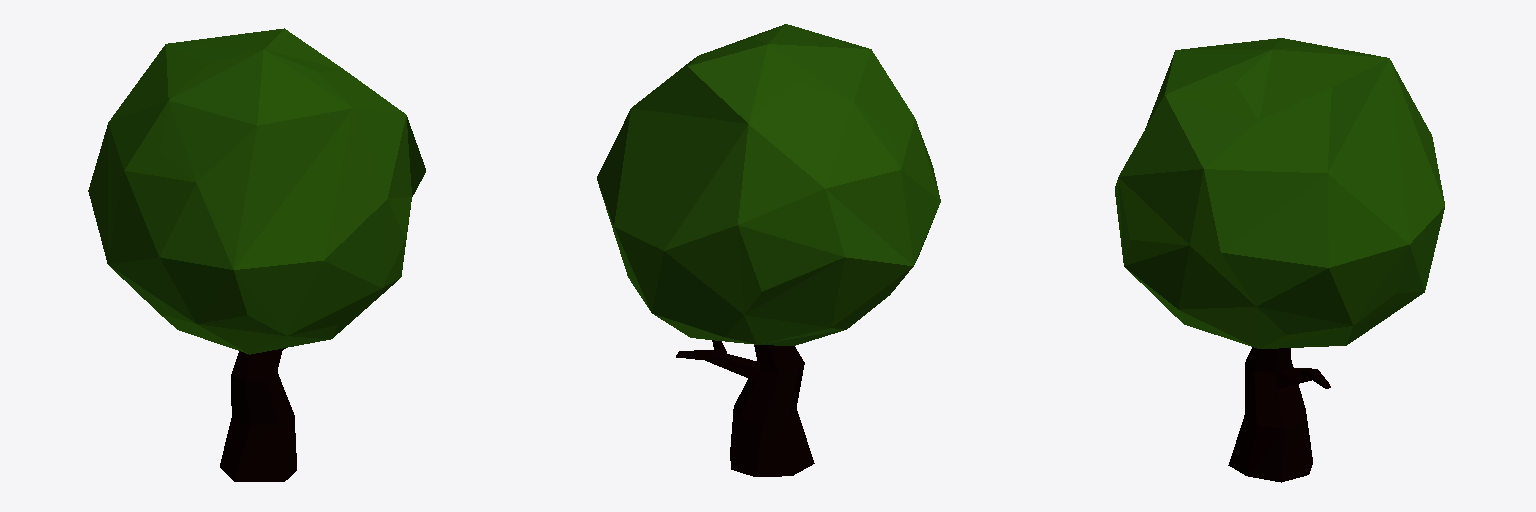
The model's file is Tree_Large.obj.
3 renders of one model, left to right at view 1: azimuth 30°, elevation 25°; view 2: azimuth 150°, elevation 25°; view 3: azimuth 270°, elevation 25°, orthographic.
Parts seen in each view (by area): view 1: pPlatonic1 group5 group1, group5 group1 pCylinder1; view 2: pPlatonic1 group5 group1, group5 group1 pCylinder1; view 3: pPlatonic1 group5 group1, group5 group1 pCylinder1.
Part boxes in pixels (x1,y1,x2,y2): pPlatonic1 group5 group1: (88, 28, 425, 354); group5 group1 pCylinder1: (220, 348, 296, 481); pPlatonic1 group5 group1: (597, 24, 940, 345); group5 group1 pCylinder1: (676, 340, 814, 476); pPlatonic1 group5 group1: (1115, 38, 1444, 348); group5 group1 pCylinder1: (1228, 347, 1330, 482).
Bounding box in the file's own units: 5.08 × 6.87 × 4.95.